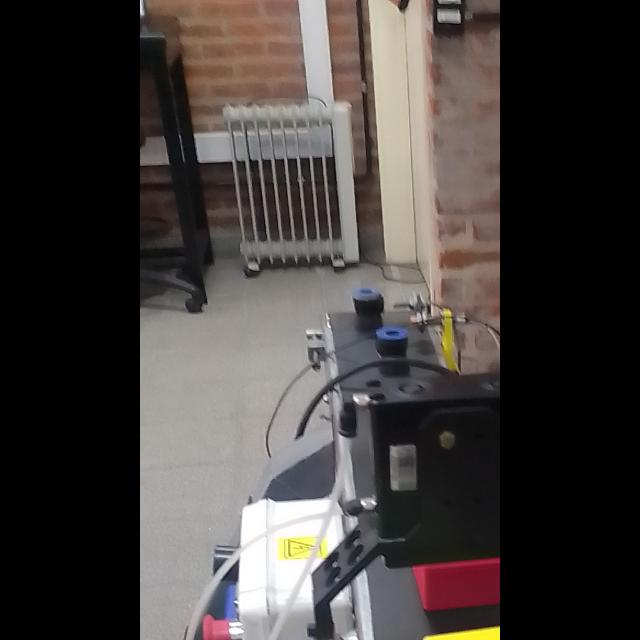redBox: (402, 540, 500, 628)
yellowBox: (402, 618, 500, 640)
